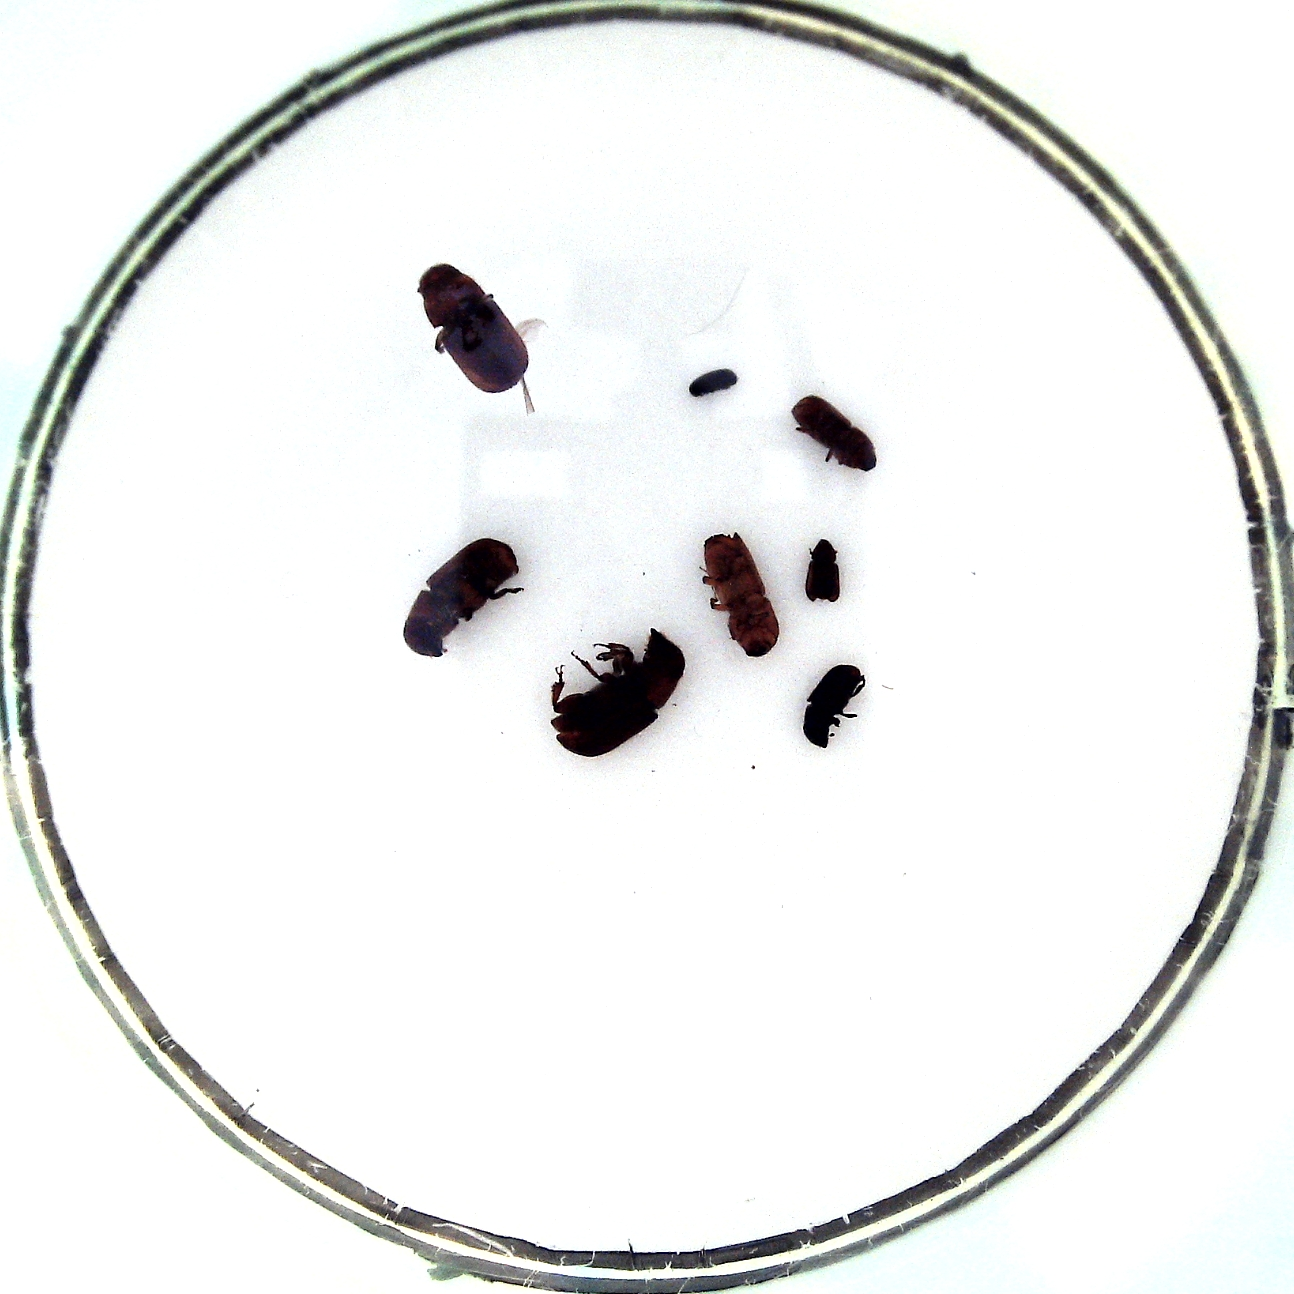Boerner: (703, 532, 780, 656)
Leconte: (552, 627, 685, 756), (418, 264, 529, 393), (403, 538, 520, 656)
acuminatus: (688, 369, 738, 397)
armandi: (803, 664, 861, 747)
coleoptera: (803, 539, 840, 603)
linnaeus: (792, 395, 877, 472)
